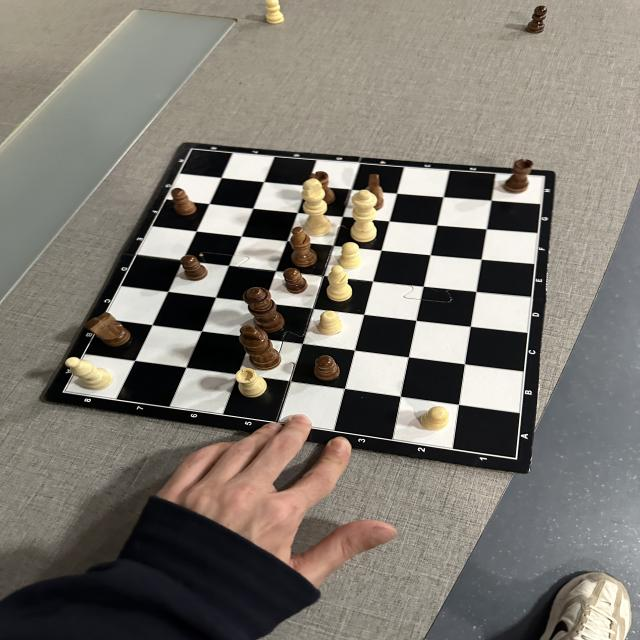Black-Bishop: (290, 226, 318, 268)
Black-King: (238, 324, 282, 371)
Black-Knight: (84, 312, 131, 347), (364, 173, 384, 210)
Black-Pawn: (180, 254, 208, 281), (313, 355, 342, 381), (171, 188, 196, 216), (524, 5, 548, 34), (283, 267, 308, 294)
Black-Queen: (243, 286, 285, 332)
Black-Rook: (503, 158, 534, 194), (309, 171, 335, 205)
White-Bishop: (64, 357, 114, 390), (326, 265, 352, 302)
White-King: (302, 178, 332, 237)
White-Pawn: (420, 406, 449, 431), (317, 310, 342, 336), (338, 242, 361, 270), (266, 0, 284, 25)
White-Queen: (350, 190, 377, 242)
White-Rook: (235, 368, 269, 398)
